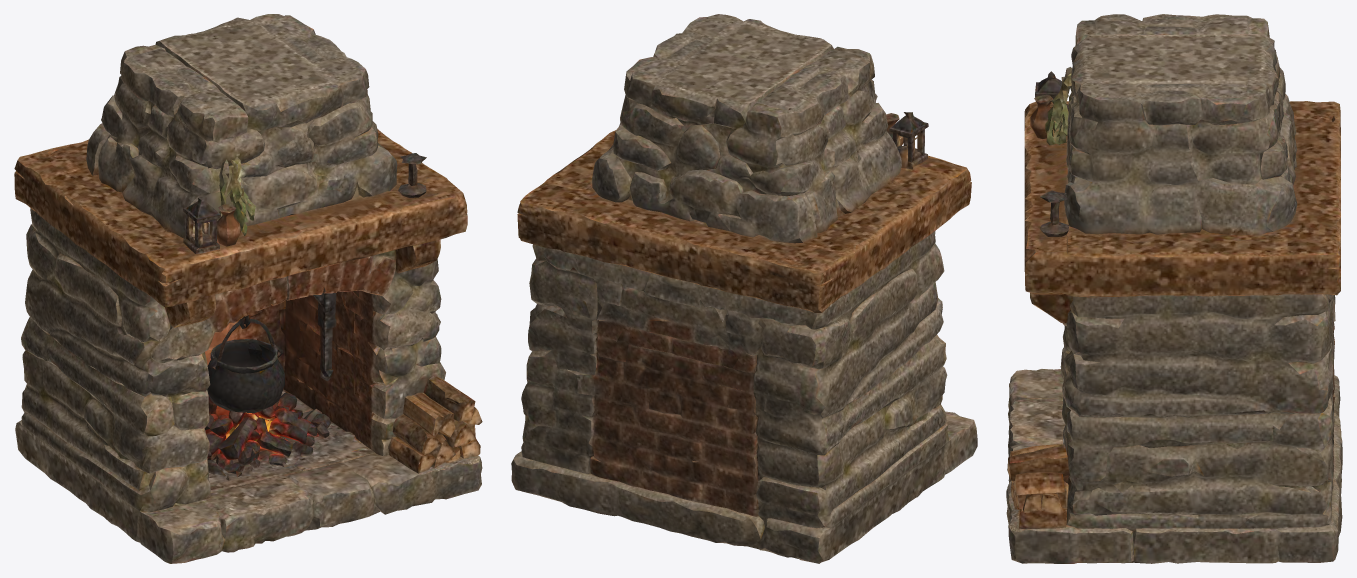
File: fireplace_lite.glb
3 views of the same model, side by side, from view 1: azimuth 30°, elevation 25°; view 2: azimuth 150°, elevation 25°; view 3: azimuth 270°, elevation 25° (orthographic). The views are drawn at different scales.
Visible parts, largest first — view 1: geometry_0; view 2: geometry_0; view 3: geometry_0.
Boxes of the visible parts, x1=… form: geometry_0: x1=14, y1=14, x2=482, y2=563; geometry_0: x1=511, y1=14, x2=977, y2=563; geometry_0: x1=1006, y1=14, x2=1342, y2=563.
Bounding box in the file's own units: 1.54 × 1.9 × 1.36.
Materials: 1 (1 with a texture image).
